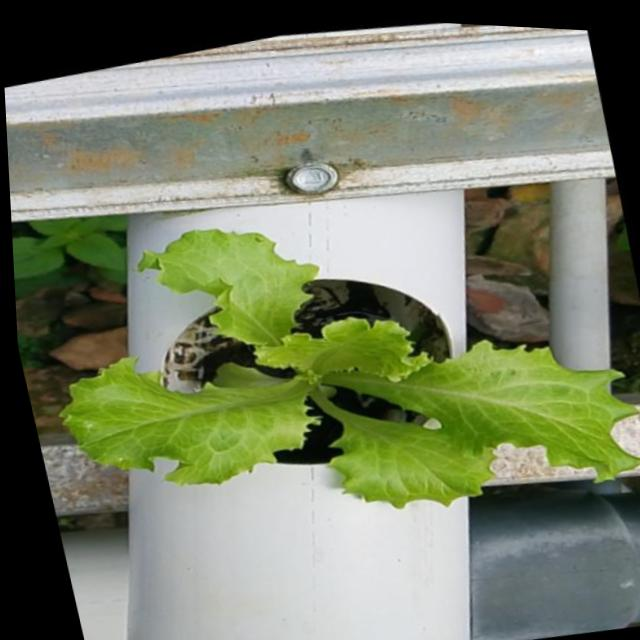Baby: (52, 236, 637, 513)
